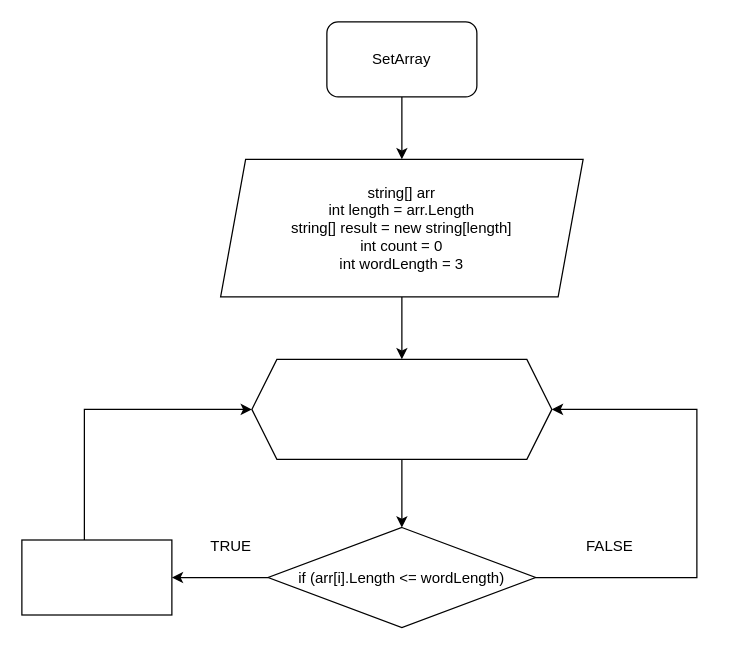
Some shapes in this 729 by 650 pixel diagram are drawn without their labels. Here are the shapes that lost their labels. From the top down, the box of each, then its label:
(251, 358, 552, 459): for (int i = 0; i <= length; i++)
(21, 539, 172, 615): result[count] = arr[i] count++
